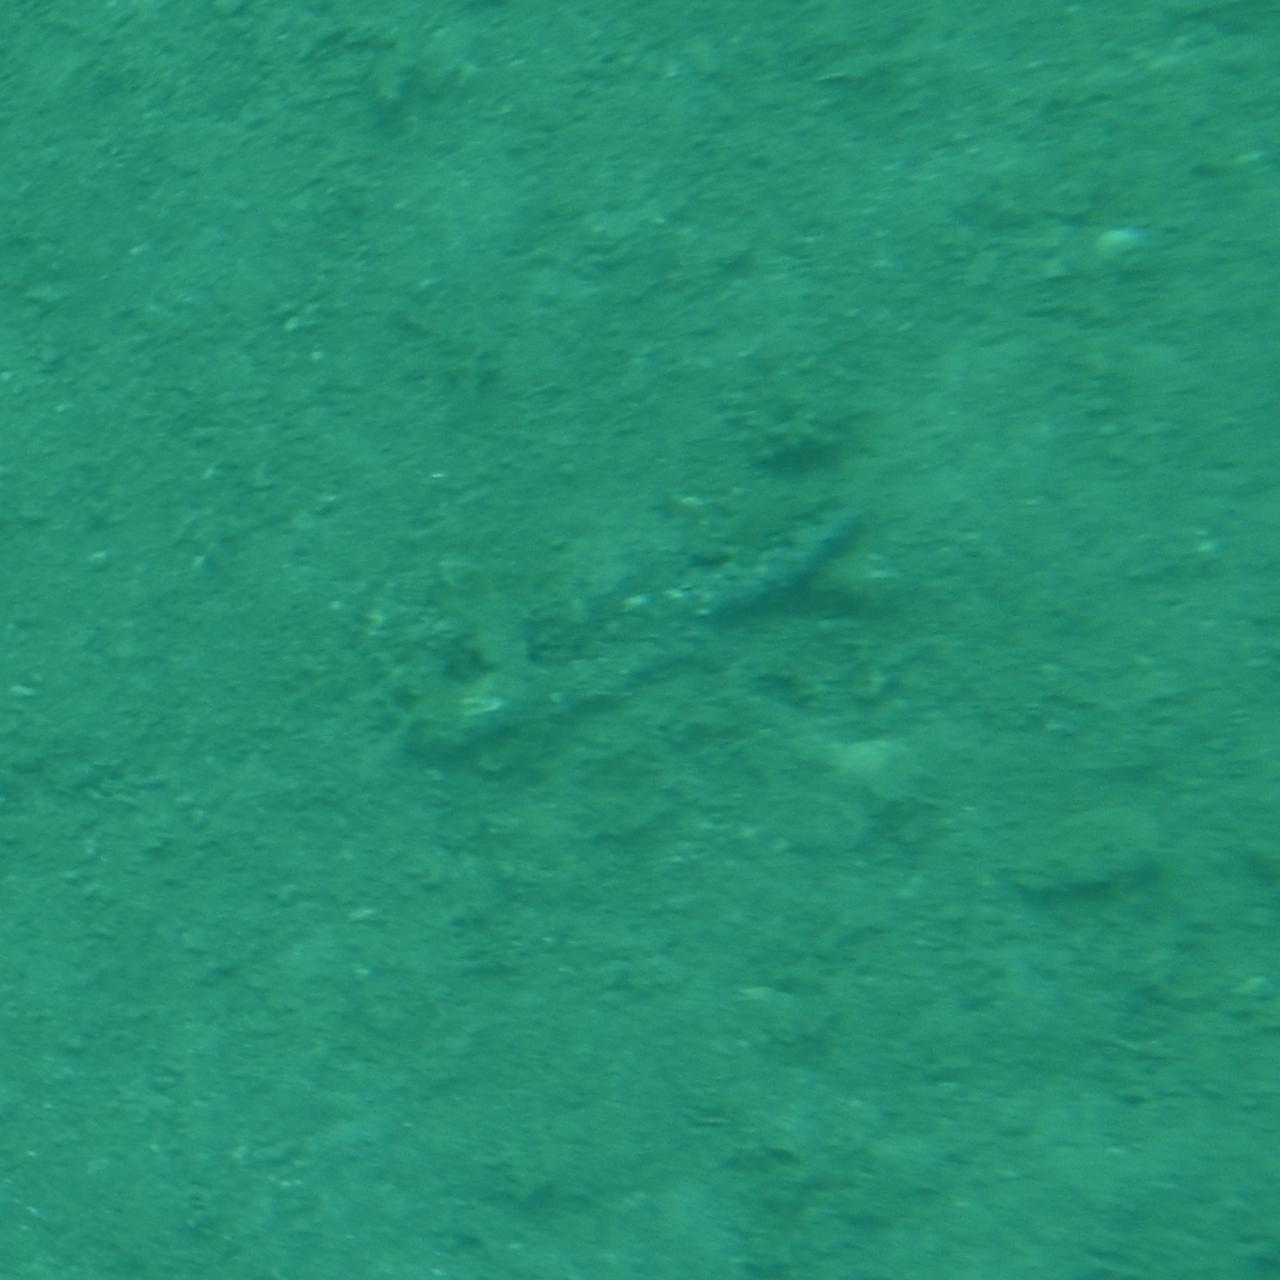Holothuria tubulosa: (378, 466, 902, 814)
